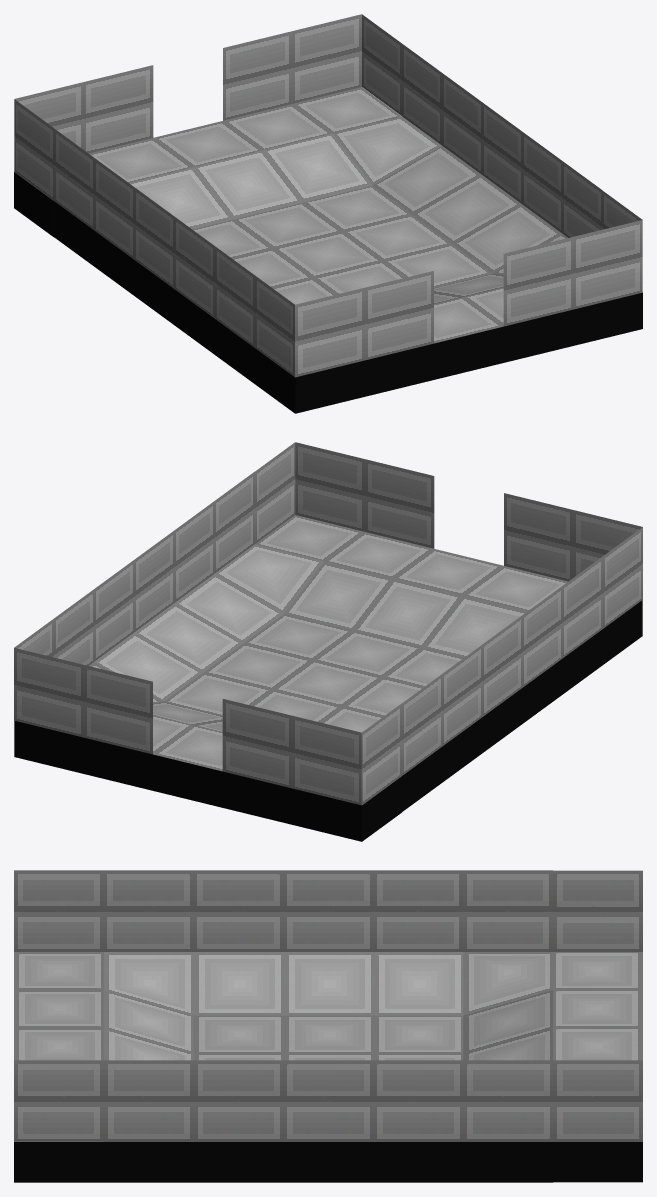
Rendered from LongRoomwithDip.gltf.
3 views of the same model, one above another, from view 1: azimuth 30°, elevation 25°; view 2: azimuth 150°, elevation 25°; view 3: azimuth 270°, elevation 25° (orthographic). The views are drawn at different scales.
Visible parts, largest first — view 1: LongRoomwithDip; view 2: LongRoomwithDip; view 3: LongRoomwithDip.
Part boxes in pixels (x1,y1,x2,y2): LongRoomwithDip: (14,14,642,413); LongRoomwithDip: (14,442,642,841); LongRoomwithDip: (14,870,642,1182).
Bounding box in the file's own units: 10.01 × 3 × 14.
Materials: 2 (1 with a texture image).
